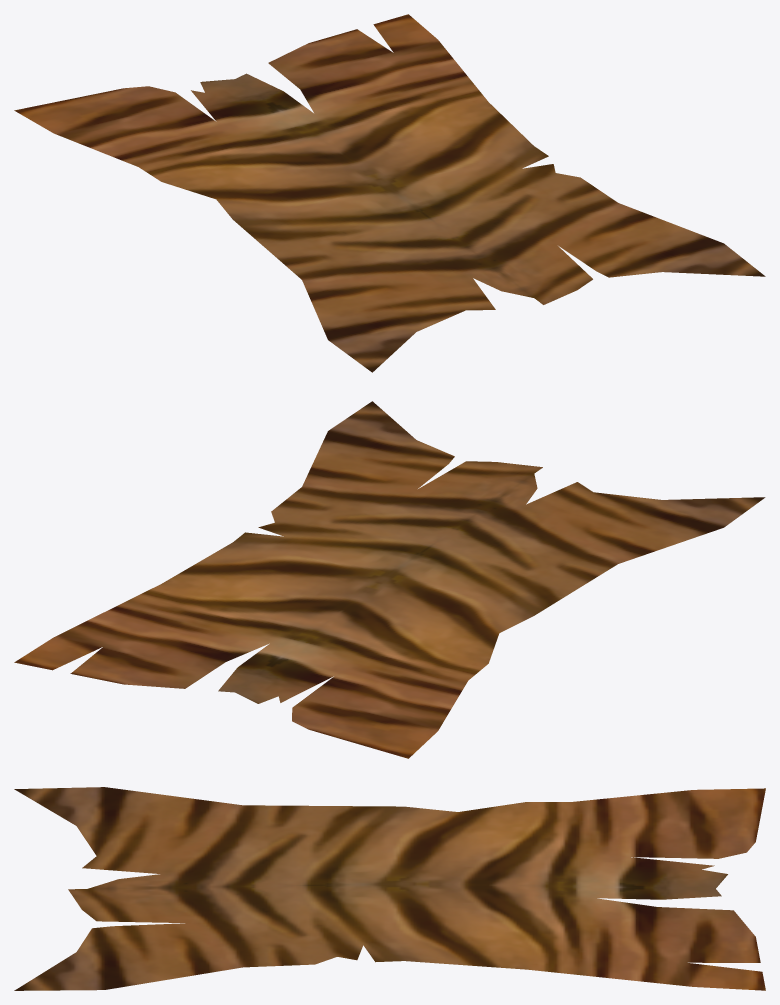
File: daliang_field_a_s02b.fbx
The picture shows the model from 3 angles, top to bottom: view 1: azimuth 30°, elevation 25°; view 2: azimuth 150°, elevation 25°; view 3: azimuth 270°, elevation 25°; orthographic projection. The views are drawn at different scales.
Visible parts, largest first — view 1: daliang_field_a_s02b; view 2: daliang_field_a_s02b; view 3: daliang_field_a_s02b.
Boxes of the visible parts, x1,y1,x2,y2 form: daliang_field_a_s02b: [14, 14, 765, 372]; daliang_field_a_s02b: [14, 401, 765, 758]; daliang_field_a_s02b: [14, 787, 765, 990].
Bounding box in the file's own units: 200 × 2.87 × 313.
